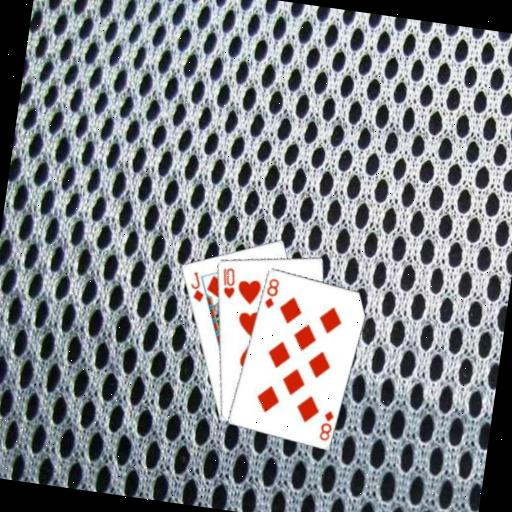10H: (216, 263, 239, 300)
8D: (261, 274, 281, 311), (316, 406, 336, 443)
JD: (185, 268, 208, 304)
